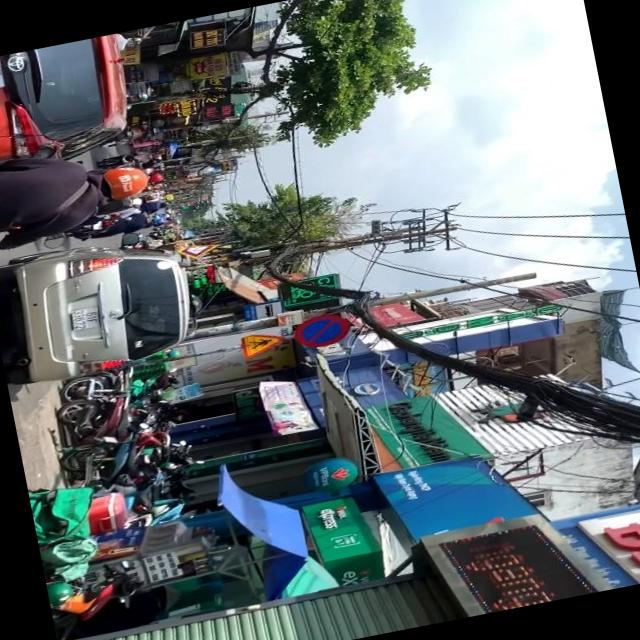P-131a: (292, 310, 352, 353)
W-224: (238, 330, 286, 358)
